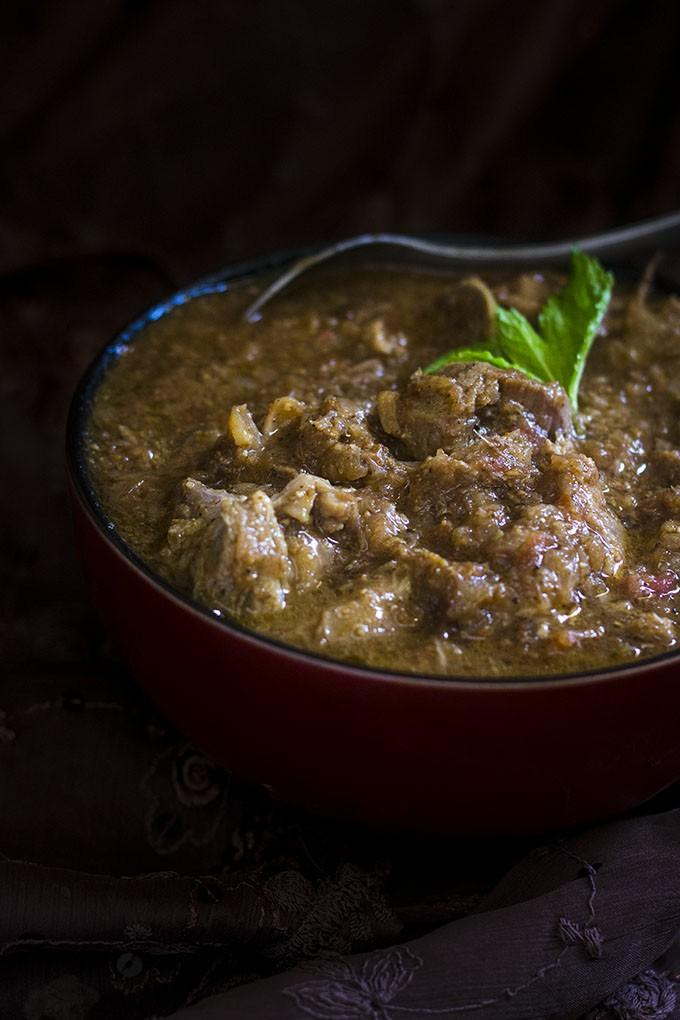MuttonCurry: (83, 246, 680, 682)
